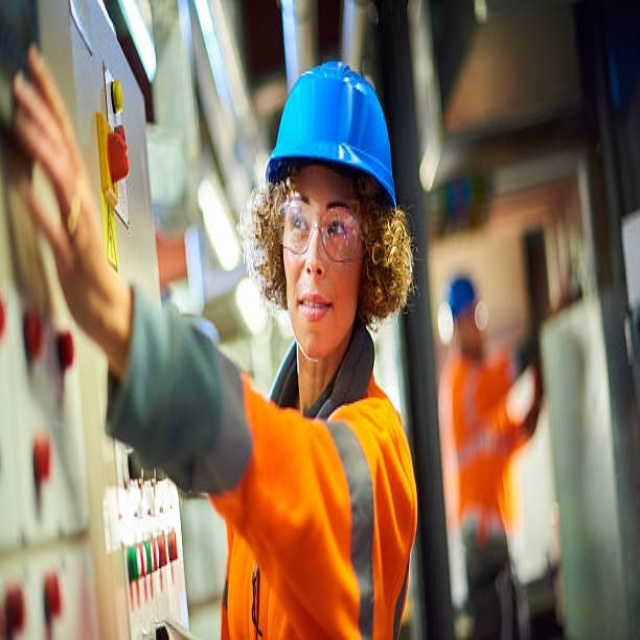Gafas: (279, 195, 365, 268)
Sin_guantes: (11, 44, 133, 360)
Sin_mascara: (289, 278, 341, 354)
